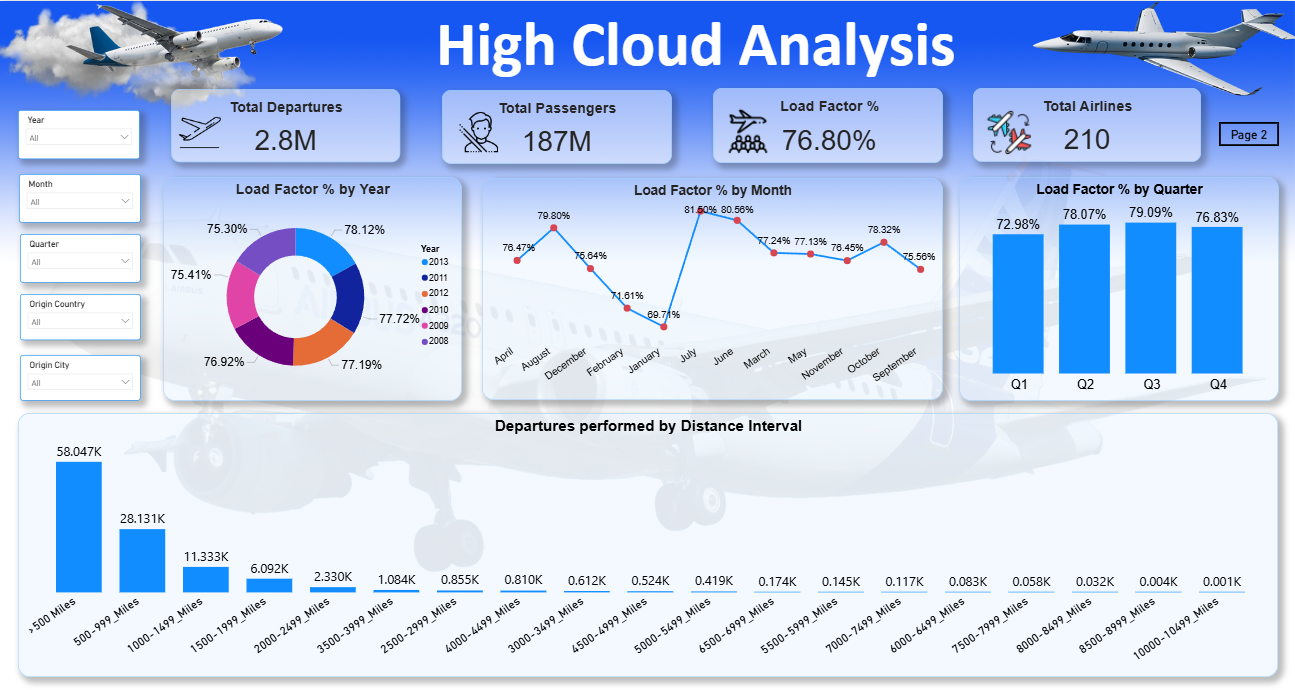

Layout of this report page (visuals, bound fields, positions):
{"tool":"powerbi","page":{"name":"Home Page","canvas":[2160,1150],"ordinal":0},"visuals":[{"type":"card","title":"Total Passengers","fields":{"Values":["airline_db fact_table.Total Passengers"]},"box":[737.5,147.5,382.5,122.5],"z":0},{"type":"donutChart","fields":{"Category":["airline_db fact_table.Year"],"Y":["airline_db fact_table.Load Factor %"]},"box":[272.5,292.5,497.5,372.5],"z":1000},{"type":"card","title":"Load Factor %","fields":{"Values":["airline_db fact_table.Load Factor %"]},"box":[1190,145,382.5,125],"z":2000},{"type":"lineChart","title":"Load Factor % by Month","fields":{"Category":["airline_db fact_table.Month_Full_Name"],"Y":["airline_db fact_table.Load Factor %"]},"box":[805,295,767.5,370],"z":3000},{"type":"columnChart","fields":{"Category":["airline_db fact_table.Quarter"],"Y":["airline_db fact_table.Load Factor %"]},"box":[1600,292.5,532.5,372.5],"z":4000},{"type":"card","title":"Total Airlines","fields":{"Values":["Count(airline_db fact_table.Carrier_Name)"]},"box":[1622.5,145,380,122.5],"z":5000},{"type":"card","title":"Total Departures","fields":{"Values":["airline_db fact_table.Total departures"]},"box":[286,146,382,122],"z":6000},{"type":"textbox","box":[724,0,926,150],"z":7000},{"type":"image","box":[298.3,176.7,73.3,85],"z":8000},{"type":"image","box":[1203.3,143.3,90,148.3],"z":9000},{"type":"image","box":[725,175,158.3,86.7],"z":10000},{"type":"image","box":[1623.3,161.7,120,115],"z":11000},{"type":"clusteredColumnChart","title":"Departures performed by Distance Interval","fields":{"Category":["airline_db fact_table.Distance_interval"],"Y":["CountNonNull(airline_db fact_table._Departures_Performed)"]},"box":[32,686,2100,440],"z":12000},{"type":"slicer","fields":{"Values":["airline_db fact_table.Year"]},"box":[32.2,181.1,203.3,82.2],"z":13000},{"type":"slicer","fields":{"Values":["airline_db fact_table.Month_Full_Name"]},"box":[33.3,288.9,203.3,81.1],"z":14000},{"type":"slicer","fields":{"Values":["airline_db fact_table.Origin_Country"]},"box":[34.4,488.9,201.1,76.7],"z":15000},{"type":"slicer","fields":{"Values":["airline_db fact_table.Origin_City"]},"box":[34.3,589.3,201.4,75.7],"z":16000},{"type":"slicer","fields":{"Values":["airline_db fact_table.Quarter"]},"box":[34.4,387.8,201.1,81.1],"z":17000},{"type":"actionButton","box":[2033.3,201.7,100,40],"z":17001}]}

Visuals, with their boxes in screenshot pixels (x1, y1, x2, y2), scaled from the page's 2160x1150 canvas onto the 1295x690 screenshot:
"Total Passengers" card: detection(442, 88, 671, 162)
donutChart - airline_db fact_table.Year x airline_db fact_table.Load Factor %: detection(163, 176, 462, 399)
"Load Factor %" card: detection(713, 87, 943, 162)
"Load Factor % by Month" lineChart: detection(483, 177, 943, 399)
columnChart - airline_db fact_table.Quarter x airline_db fact_table.Load Factor %: detection(959, 176, 1279, 399)
"Total Airlines" card: detection(973, 87, 1201, 160)
"Total Departures" card: detection(171, 88, 400, 161)
textbox: detection(434, 0, 989, 90)
image: detection(179, 106, 223, 157)
image: detection(721, 86, 775, 175)
image: detection(435, 105, 530, 157)
image: detection(973, 97, 1045, 166)
"Departures performed by Distance Interval" clusteredColumnChart: detection(19, 412, 1278, 676)
slicer - airline_db fact_table.Year: detection(19, 109, 141, 158)
slicer - airline_db fact_table.Month_Full_Name: detection(20, 173, 142, 222)
slicer - airline_db fact_table.Origin_Country: detection(21, 293, 141, 339)
slicer - airline_db fact_table.Origin_City: detection(21, 354, 141, 399)
slicer - airline_db fact_table.Quarter: detection(21, 233, 141, 281)
actionButton: detection(1219, 121, 1279, 145)
